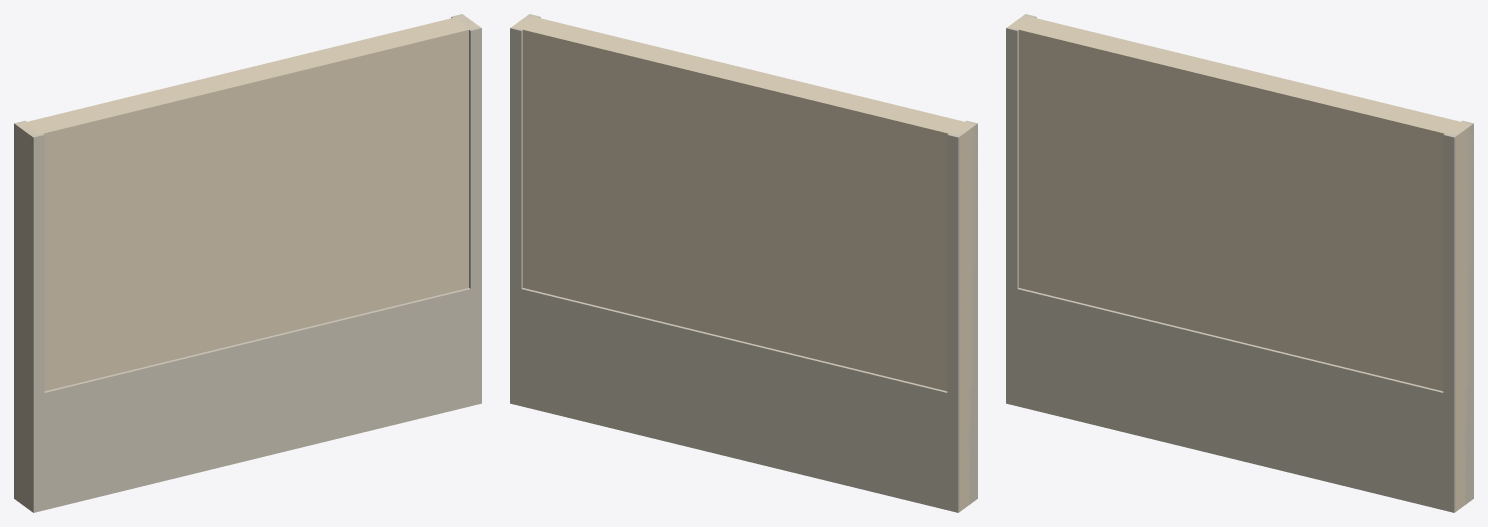
The model's file is arch.bay-solid.glb.
The picture shows the model from 3 angles, left to right: view 1: azimuth 30°, elevation 25°; view 2: azimuth 150°, elevation 25°; view 3: azimuth 330°, elevation 25°; orthographic projection.
Visible parts, largest first — view 1: arch.bay-solid; view 2: arch.bay-solid; view 3: arch.bay-solid.
Boxes of the visible parts, bbox=[...] form: arch.bay-solid: bbox=[14, 14, 481, 512]; arch.bay-solid: bbox=[510, 14, 977, 512]; arch.bay-solid: bbox=[1006, 14, 1473, 512].
Bounding box in the file's own units: 4 × 3.2 × 0.3.
